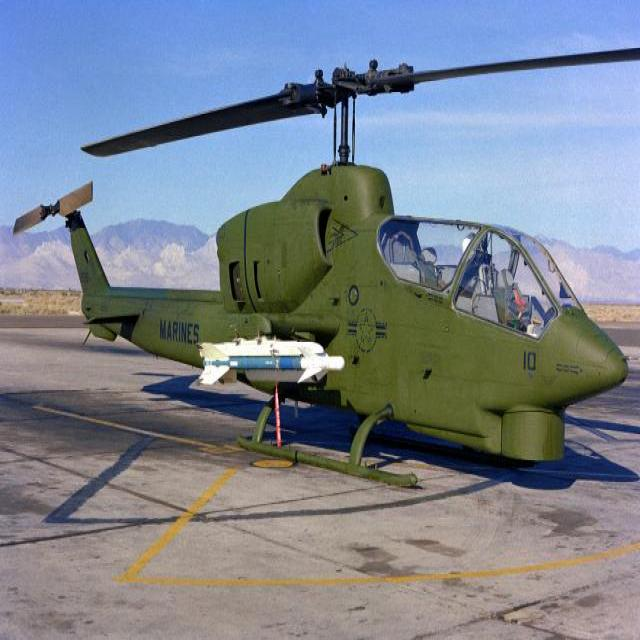MIL_HELO: (20, 44, 640, 482)
